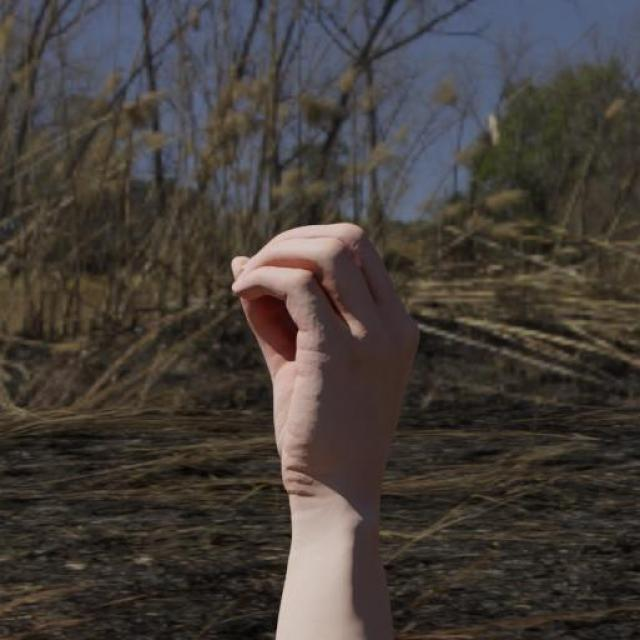O: (224, 219, 428, 505)
